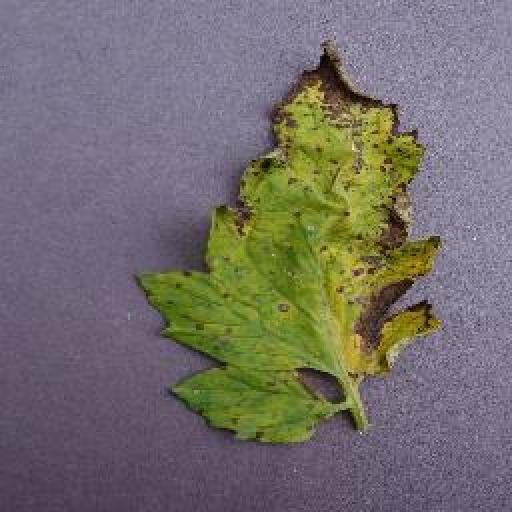Septoria: (134, 40, 445, 444)
